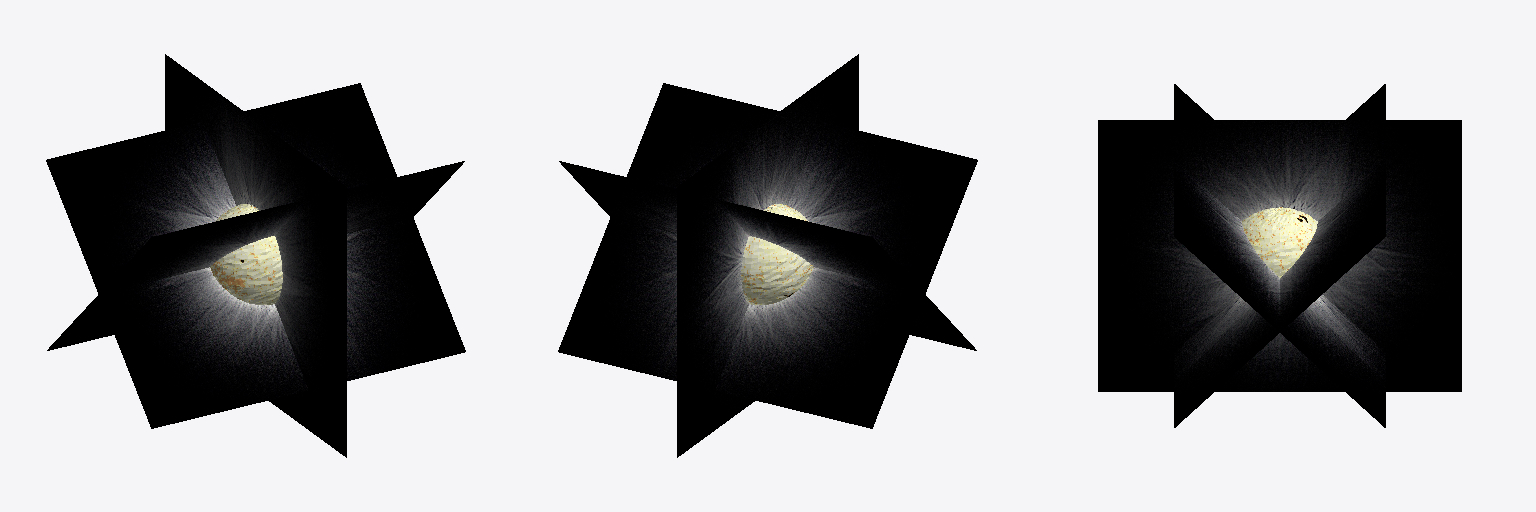
3 renders of one model, left to right at view 1: azimuth 30°, elevation 25°; view 2: azimuth 150°, elevation 25°; view 3: azimuth 270°, elevation 25°, orthographic.
Visible parts, largest first — view 1: Corona_layer_1, Corona_layer_3, Corona_layer_2, Sun; view 2: Corona_layer_2, Corona_layer_3, Corona_layer_1, Sun; view 3: Corona_layer_3, Corona_layer_1, Corona_layer_2, Sun.
Part boxes in pixels (x1,y1,x2,y2): Corona_layer_1: (46,83,465,428); Corona_layer_3: (165,54,346,457); Corona_layer_2: (47,161,464,350); Sun: (210,204,282,304); Corona_layer_2: (558,83,977,428); Corona_layer_3: (677,54,858,457); Corona_layer_1: (559,161,976,350); Sun: (741,204,813,304); Corona_layer_3: (1098,120,1461,391); Corona_layer_1: (1174,84,1385,427); Corona_layer_2: (1174,84,1385,427); Sun: (1242,207,1317,277).
Size of the model in its own units: 34 by 28 by 34.
Materials: 2 (2 with a texture image).